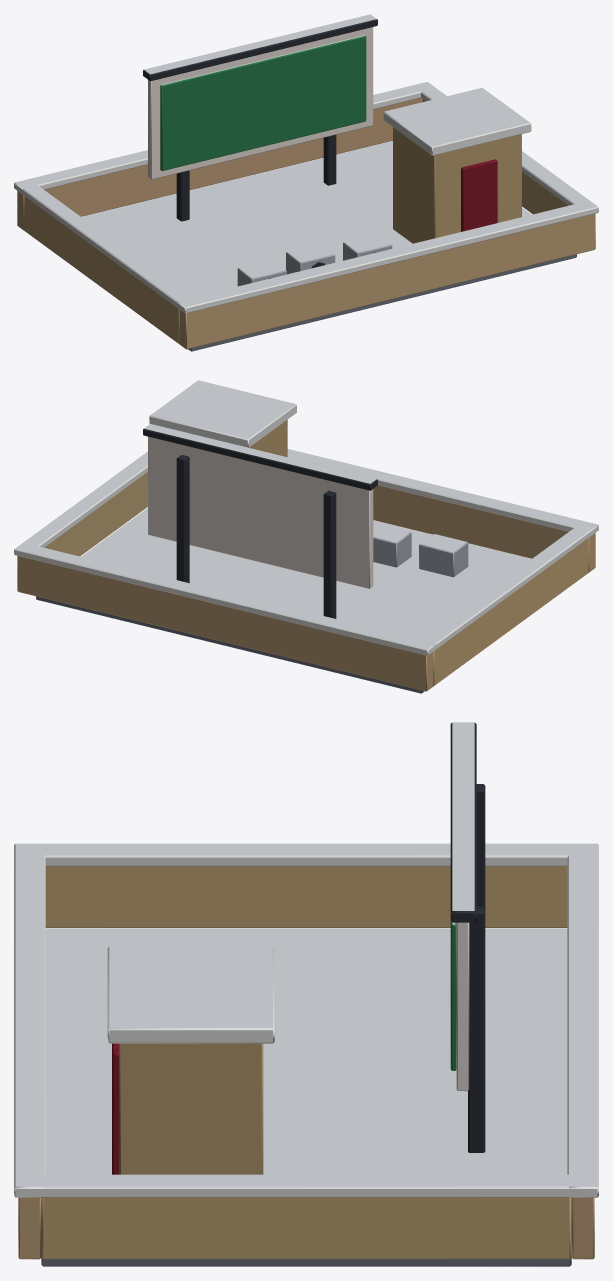
Rendered from Apartment_Cream_Roof.glb.
The picture shows the model from 3 angles, top to bottom: view 1: azimuth 30°, elevation 25°; view 2: azimuth 150°, elevation 25°; view 3: azimuth 270°, elevation 25°; orthographic projection. The views are drawn at different scales.
Parts seen in each view (by area): view 1: Apartment_Cream_Roof; view 2: Apartment_Cream_Roof; view 3: Apartment_Cream_Roof.
Part boxes in pixels (x1,y1,x2,y2): Apartment_Cream_Roof: (14,14,598,351); Apartment_Cream_Roof: (14,380,598,693); Apartment_Cream_Roof: (14,722,598,1266).
Size of the model in its own units: 28.3 by 11.1 by 20.3.
